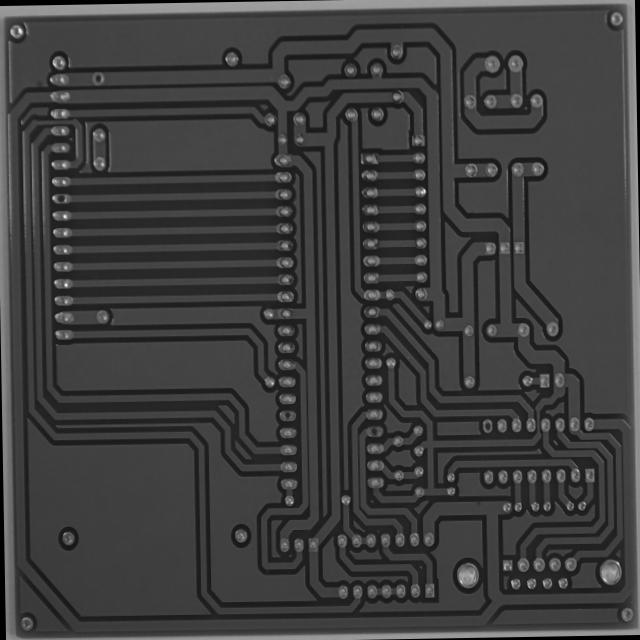missing_hole: (278, 406, 296, 425), (88, 68, 106, 87), (52, 189, 70, 207), (481, 416, 496, 436), (367, 422, 382, 438)
